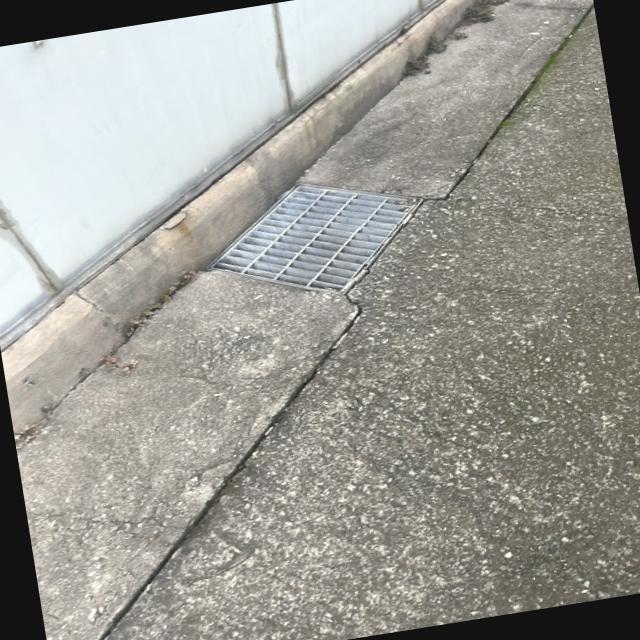drain_area: (211, 186, 405, 291)
drain_full: (209, 184, 421, 296)
